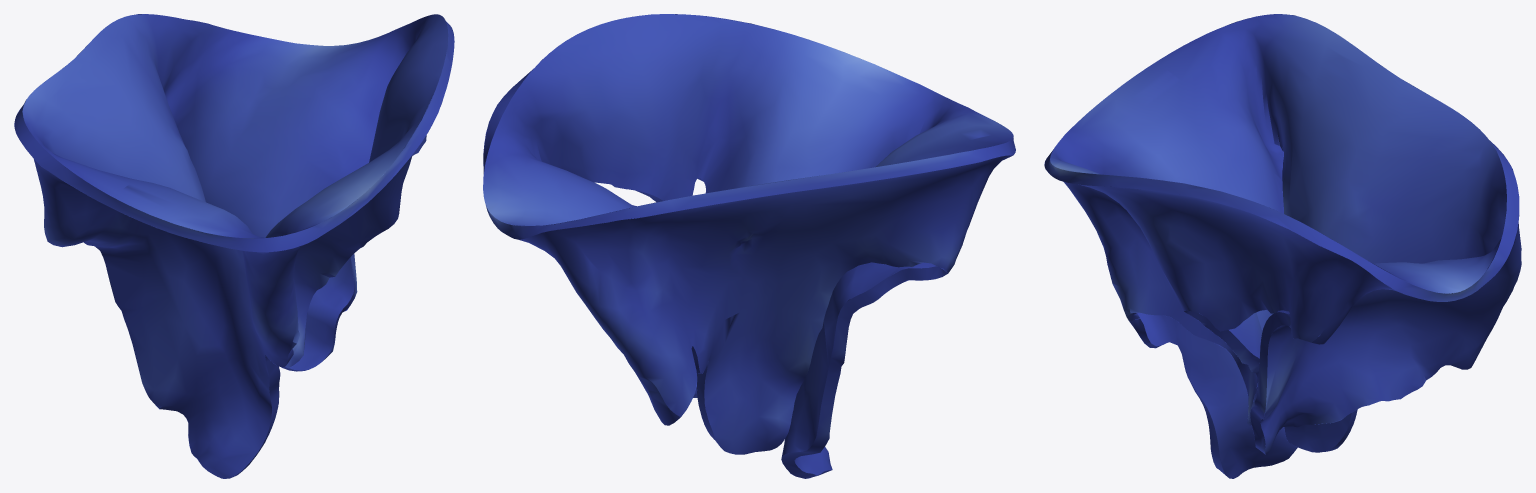
The picture shows the model from 3 angles, left to right: view 1: azimuth 30°, elevation 25°; view 2: azimuth 150°, elevation 25°; view 3: azimuth 270°, elevation 25°; orthographic projection. The views are drawn at different scales.
Visible parts, largest first — view 1: OCS14_maxS_2; view 2: OCS14_maxS_2; view 3: OCS14_maxS_2.
Part boxes in pixels (x1,y1,x2,y2): OCS14_maxS_2: (14,14,454,478); OCS14_maxS_2: (483,14,1015,478); OCS14_maxS_2: (1044,14,1521,478).
Size of the model in its own units: 1.44 by 1.19 by 1.33.
